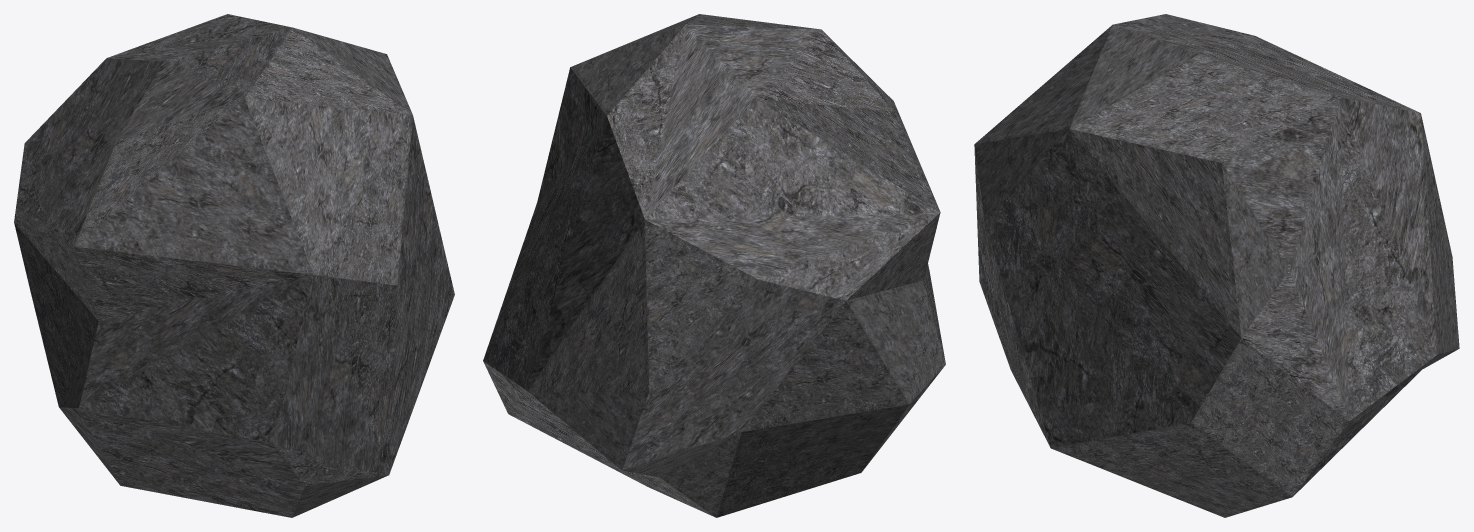
File: Rock01_KW.glb
3 renders of one model, left to right at view 1: azimuth 30°, elevation 25°; view 2: azimuth 150°, elevation 25°; view 3: azimuth 270°, elevation 25°, orthographic. The views are drawn at different scales.
Parts seen in each view (by area): view 1: Low_Poly_Rock; view 2: Low_Poly_Rock; view 3: Low_Poly_Rock.
Part boxes in pixels (box(x1,y1,x2,y2)): Low_Poly_Rock: box(14, 14, 454, 517); Low_Poly_Rock: box(483, 14, 945, 517); Low_Poly_Rock: box(974, 14, 1459, 517).
Size of the model in its own units: 2.26 by 2.54 by 2.47.
1 material, 1 textured.
